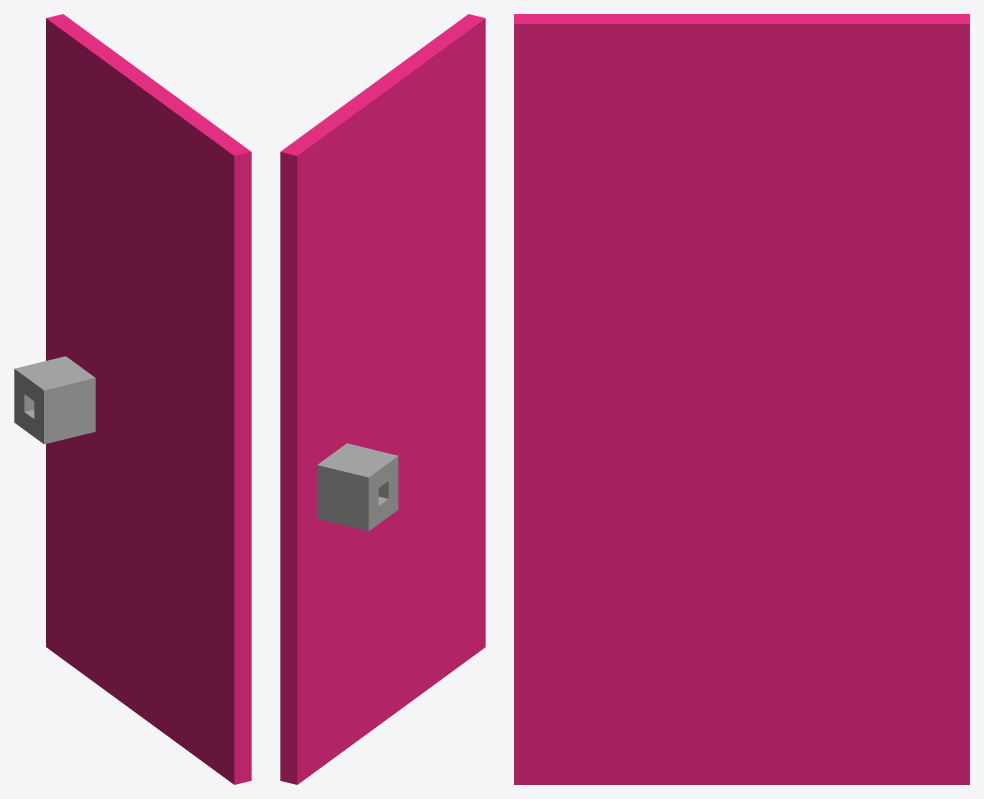
Rendered from Room.vox-0.obj.
3 renders of one model, left to right at view 1: azimuth 30°, elevation 25°; view 2: azimuth 150°, elevation 25°; view 3: azimuth 270°, elevation 25°, orthographic. The views are drawn at different scales.
Size of the model in its own units: 0.4 by 3.5 by 1.9.
Materials: 1 (1 with a texture image).
